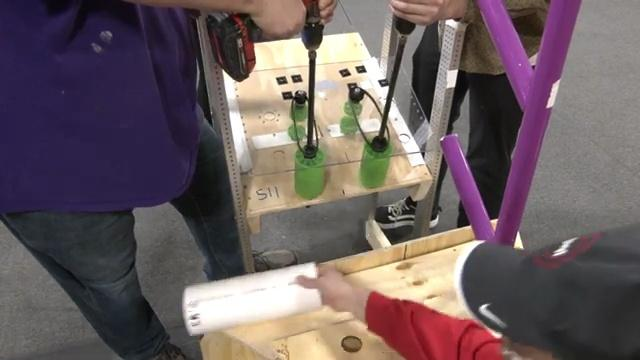CORAL: (180, 259, 324, 336)
